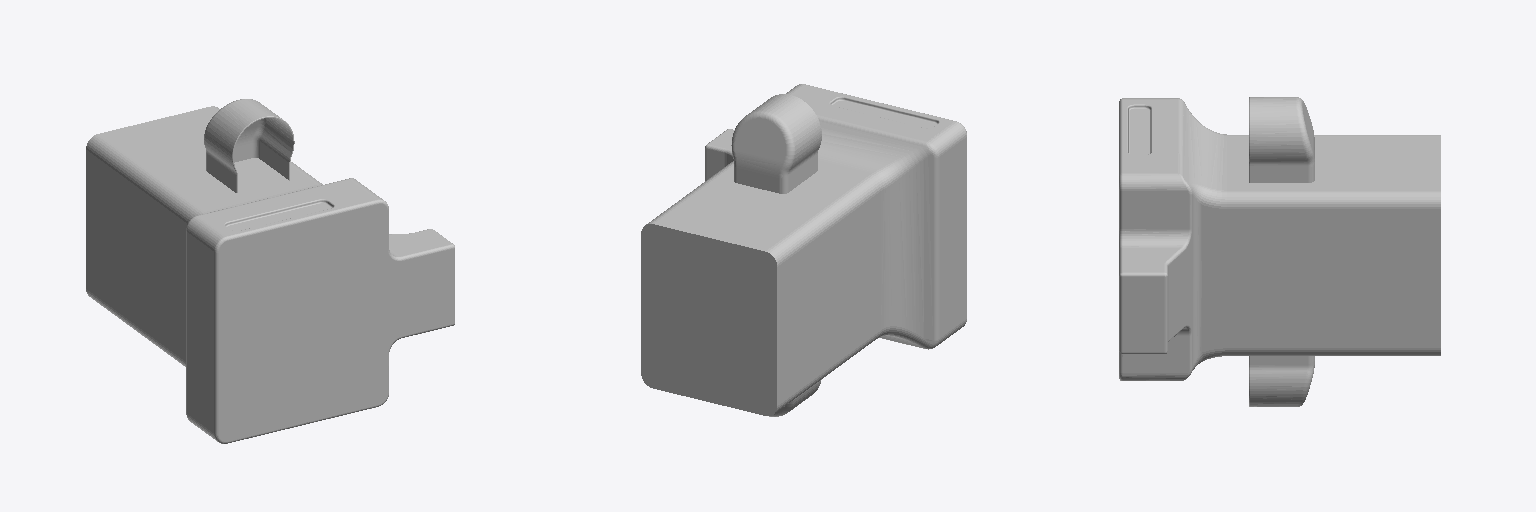
The model's file is torso_lift_dual_arm.obj.
3 renders of one model, left to right at view 1: azimuth 30°, elevation 25°; view 2: azimuth 150°, elevation 25°; view 3: azimuth 270°, elevation 25°, orthographic.
Parts seen in each view (by area): view 1: torso_lift_dual_arm; view 2: torso_lift_dual_arm; view 3: torso_lift_dual_arm.
Boxes of the visible parts, <box> form: torso_lift_dual_arm: <box>86,99,454,443</box>; torso_lift_dual_arm: <box>641,84,966,416</box>; torso_lift_dual_arm: <box>1119,97,1440,406</box>.
Bounding box in the file's own units: 0.401 × 0.484 × 0.464.